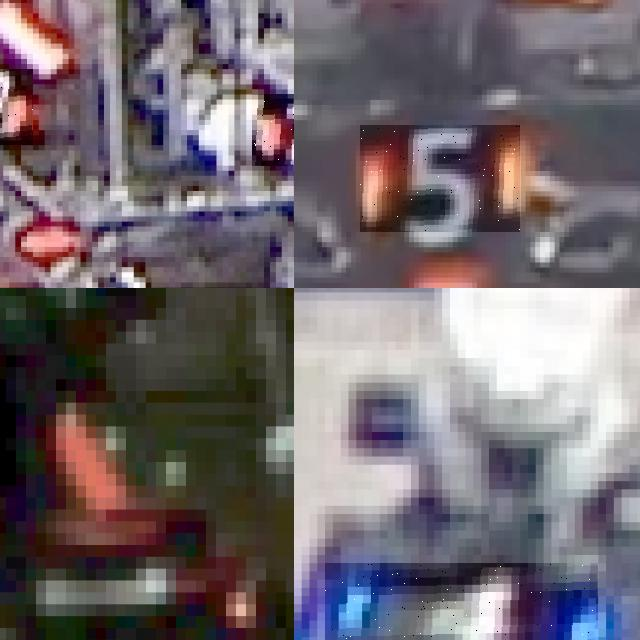B4: (325, 563, 598, 640)
R2: (252, 94, 294, 165), (0, 69, 33, 145)
R5: (360, 125, 520, 232)
